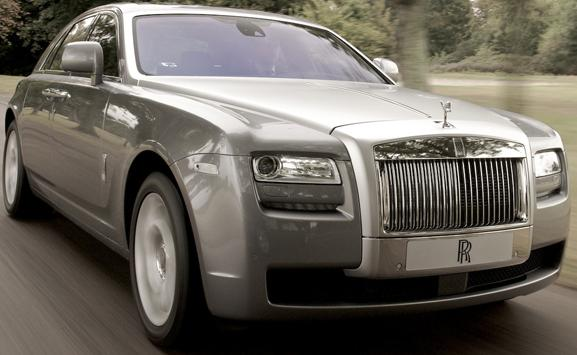front_view: (243, 105, 560, 318)
headlight: (257, 135, 365, 231)
side_glass: (39, 9, 125, 91)
